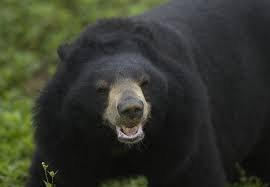bear: (28, 0, 269, 186)
